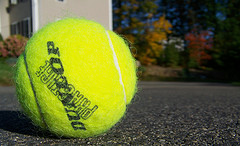tennis ball: (12, 16, 139, 138)
